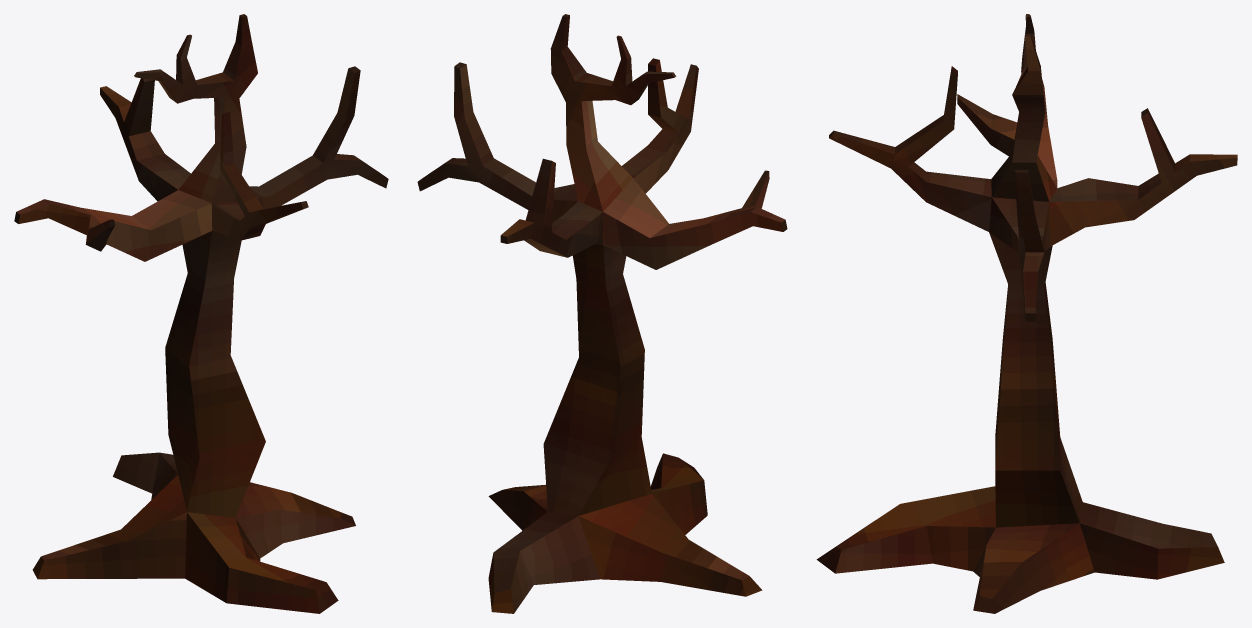
File: tree_unity.fbx
3 renders of one model, left to right at view 1: azimuth 30°, elevation 25°; view 2: azimuth 150°, elevation 25°; view 3: azimuth 270°, elevation 25°, orthographic. The views are drawn at different scales.
Parts seen in each view (by area): view 1: notSmoothTree; view 2: notSmoothTree; view 3: notSmoothTree.
Boxes of the visible parts, x1=… form: notSmoothTree: x1=14, y1=14, x2=388, y2=613; notSmoothTree: x1=417, y1=14, x2=787, y2=613; notSmoothTree: x1=816, y1=14, x2=1237, y2=613.
Bounding box in the file's own units: 341 × 468 × 327.
